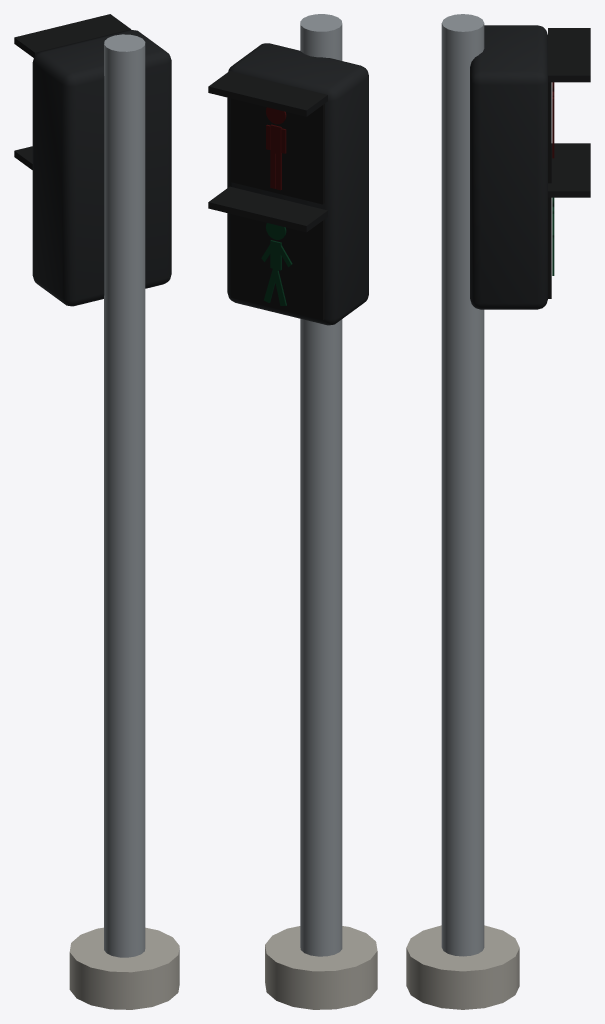
File: PedLight.fbx
3 views of the same model, side by side, from view 1: azimuth 30°, elevation 25°; view 2: azimuth 150°, elevation 25°; view 3: azimuth 270°, elevation 25° (orthographic). The views are drawn at different scales.
Parts seen in each view (by area): view 1: PedLight_Body; view 2: PedLight_Body, Ped_Red, Ped_Green; view 3: PedLight_Body.
Boxes of the visible parts, left/top/right/bottom form: PedLight_Body: left=14, top=14, right=179, bottom=1009; PedLight_Body: left=208, top=14, right=377, bottom=1009; Ped_Red: left=266, top=107, right=286, bottom=190; Ped_Green: left=261, top=223, right=292, bottom=305; PedLight_Body: left=406, top=14, right=590, bottom=1009.
Bounding box in the file's own units: 0.36 × 3 × 0.52.
